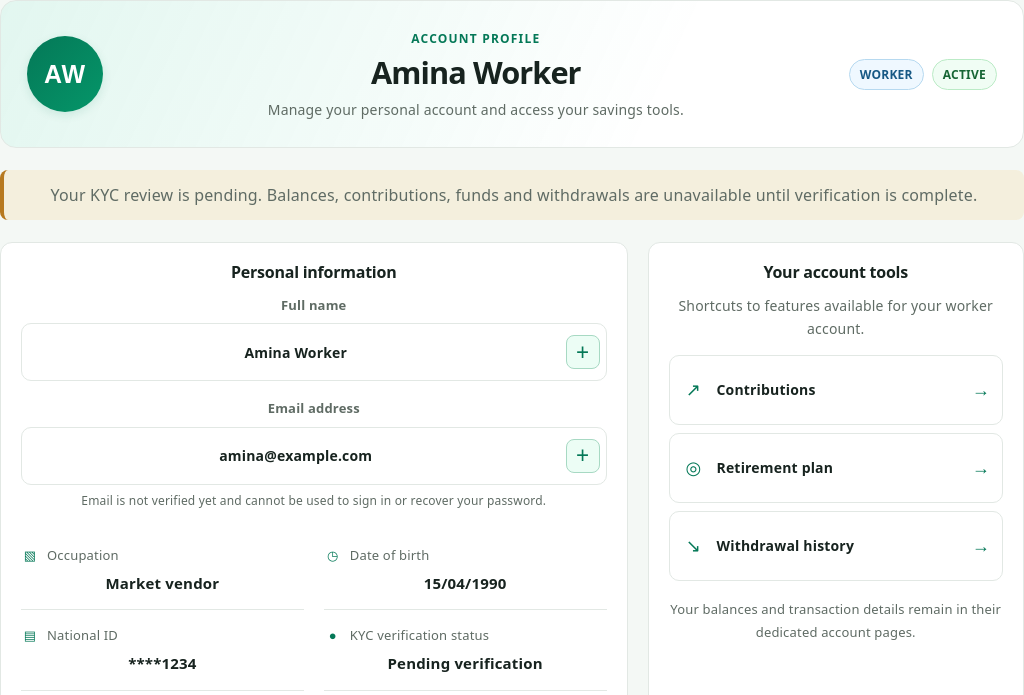
Test: shared ProfileCard › persists an email update and shows the server's uniqueness message on failure
The image size is (1024, 695).
Expected: the heading "Amina Worker" is shown, [371,51,581,93]
Click the button named "Edit email address" at (582, 456), box [566,438,600,472]
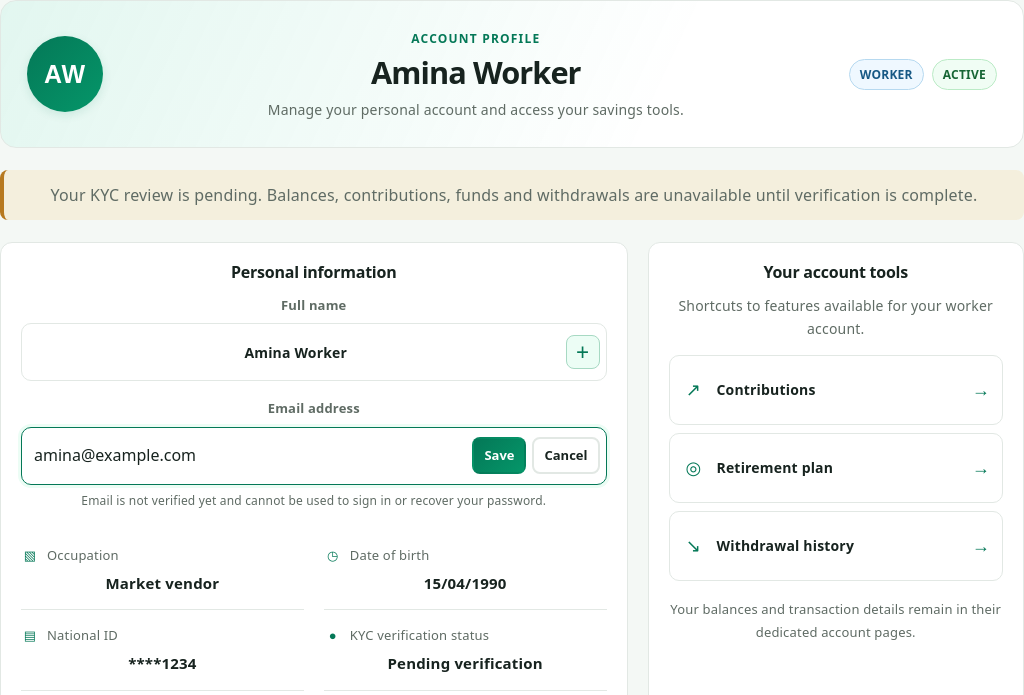
Replace the text in the field labelled "Email address" with "new@example.com" at (249, 456), box [34,439,464,472]
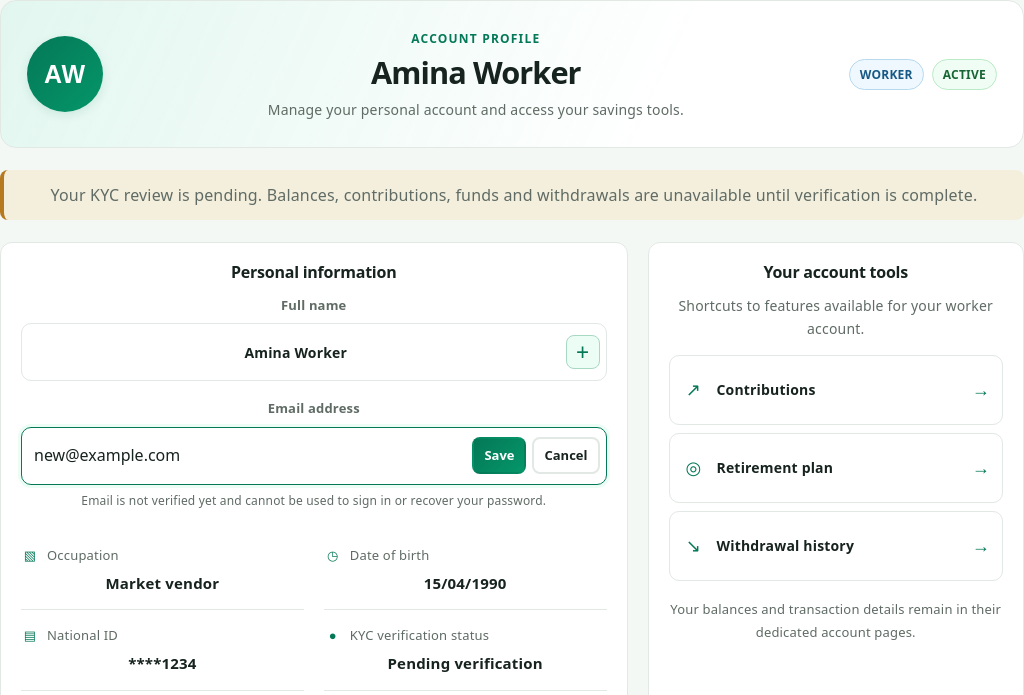
Click the button "Save" at (499, 456), box [472,437,526,474]
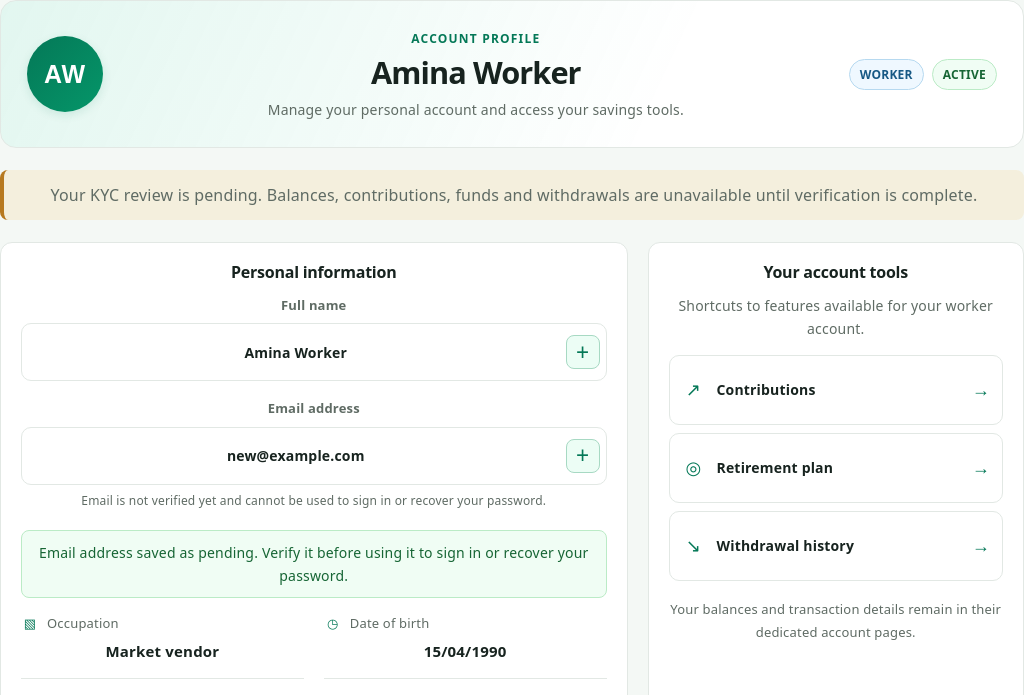
Expected: the message shows "Email address saved as pending", [39,543,589,585]
Expected: the text "new@example.com" is shown, [227,446,365,465]
Click the button named "Edit email address" at (582, 456), box [566,438,600,472]
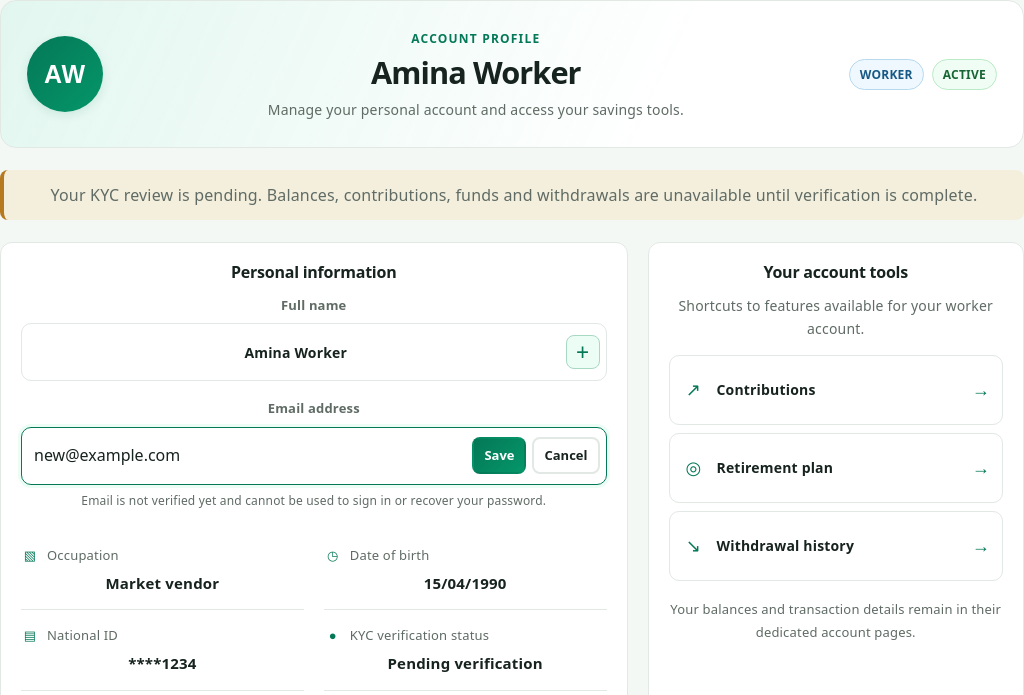
Replace the text in the field labelled "Email address" with "taken@example.com" at (249, 456), box [34,439,464,472]
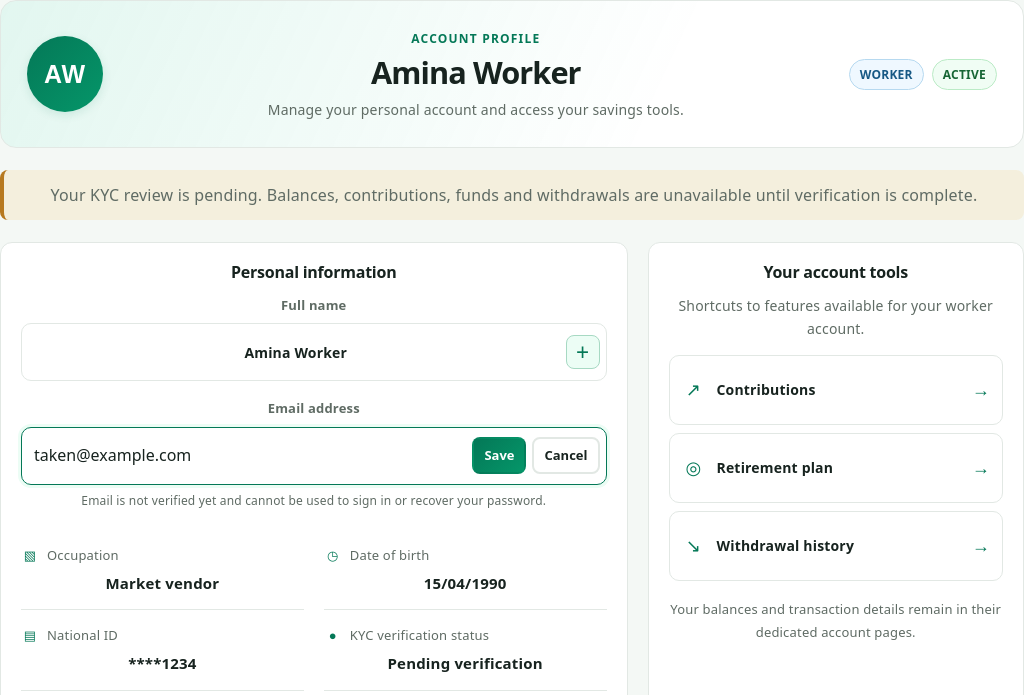
Click the button "Save" at (499, 456), box [472,437,526,474]
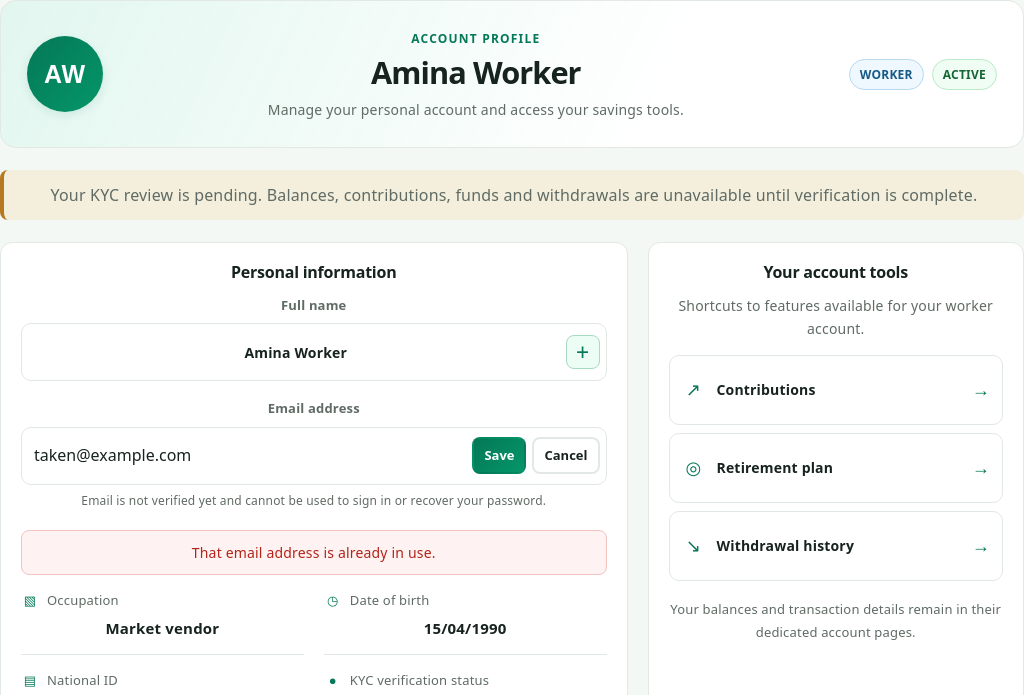
Expected: the message shows "That email address is already in use", [192,543,436,562]
